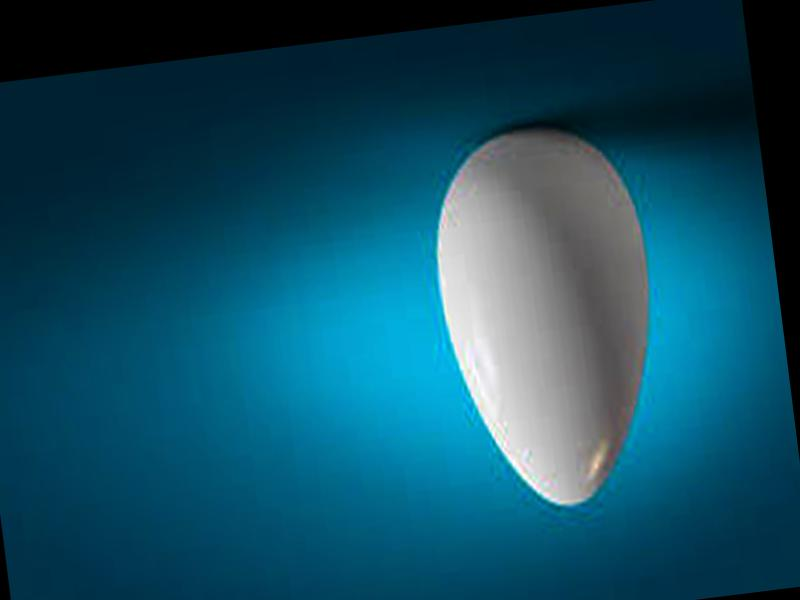Eggs: (420, 114, 677, 516)
